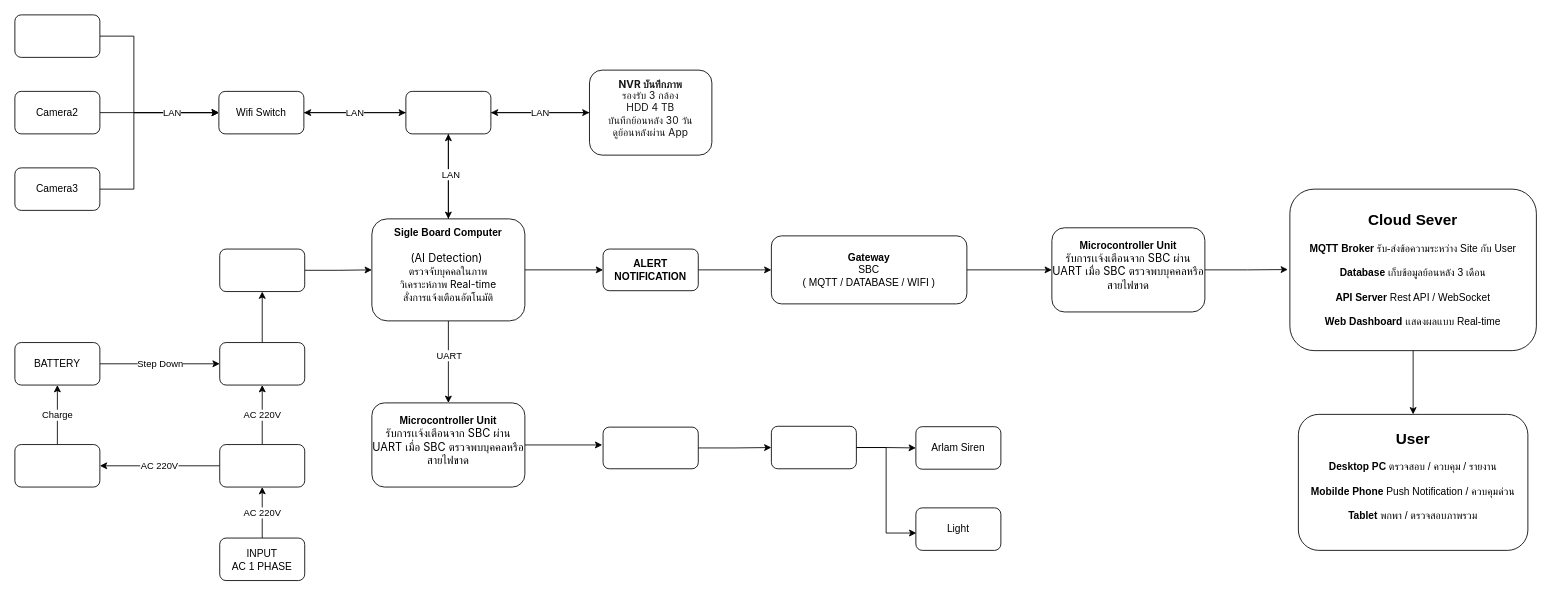
The diagram is 1551 pixels wide and 596 high, and some of its shapes have lost their labels. Here are the shapes that lost their labels. From the top down, the box of each, then its label:
(14, 14, 100, 57): Camera1
(405, 91, 491, 134): WiFi Box
(219, 248, 305, 292): Stepdown
(219, 342, 305, 385): SUPPLY
(14, 444, 100, 487): SUPPLY BAT CHARGE
(219, 444, 305, 487): BREAKER
(602, 426, 698, 469): ALERT OUTPUT
(771, 425, 856, 469): Relay
